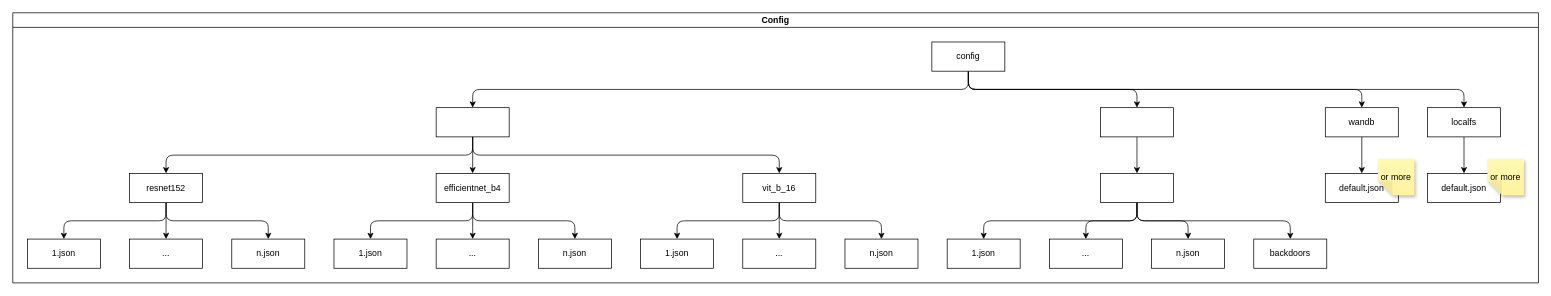
Image size: 1551x296. Some labels were removed from this diagram. The centre of each missing label's shape, as x and y in pixels:
"datasets" goes at pixel 1136 122.
"imagenet2012" goes at pixel 1136 188.
"models" goes at pixel 472 122.
